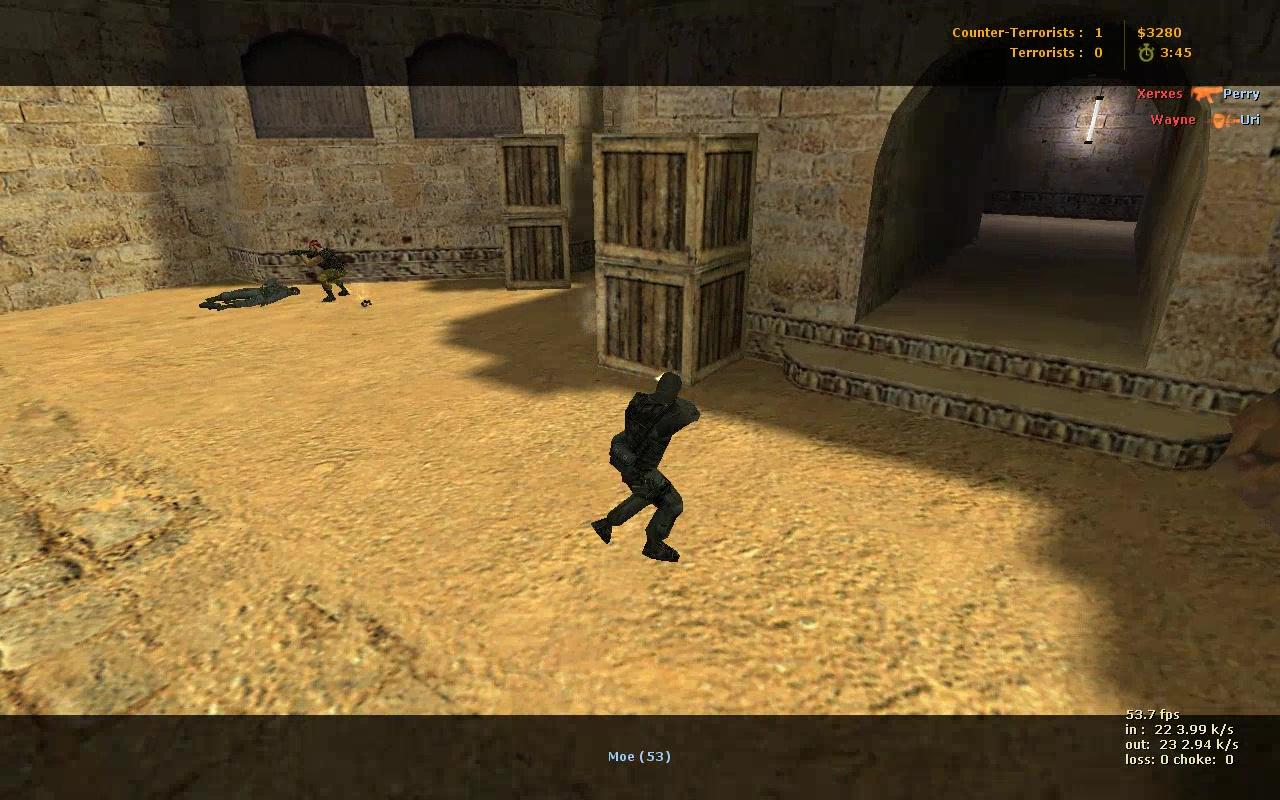ct: (595, 368, 708, 566)
dead: (205, 284, 301, 311)
terr1: (301, 239, 360, 306)
